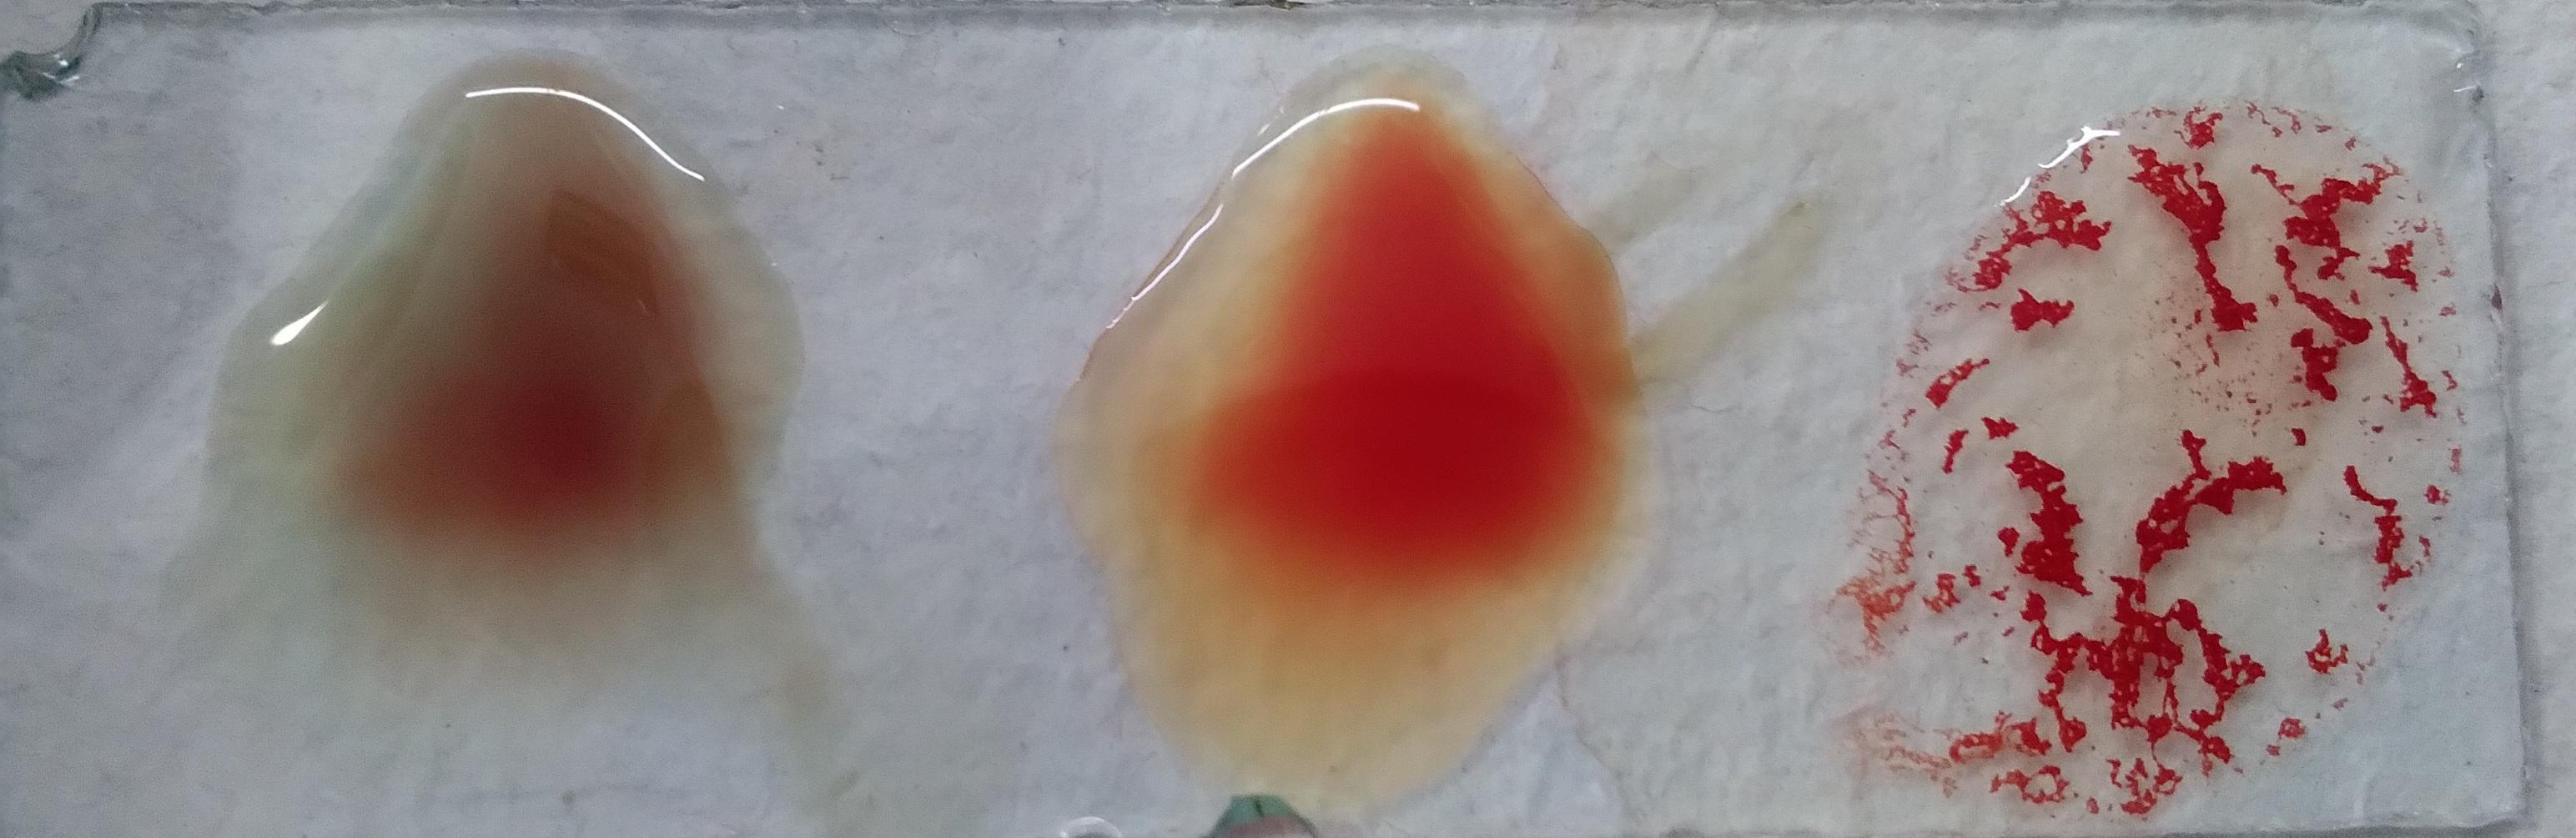D: (99, 7, 693, 746)
